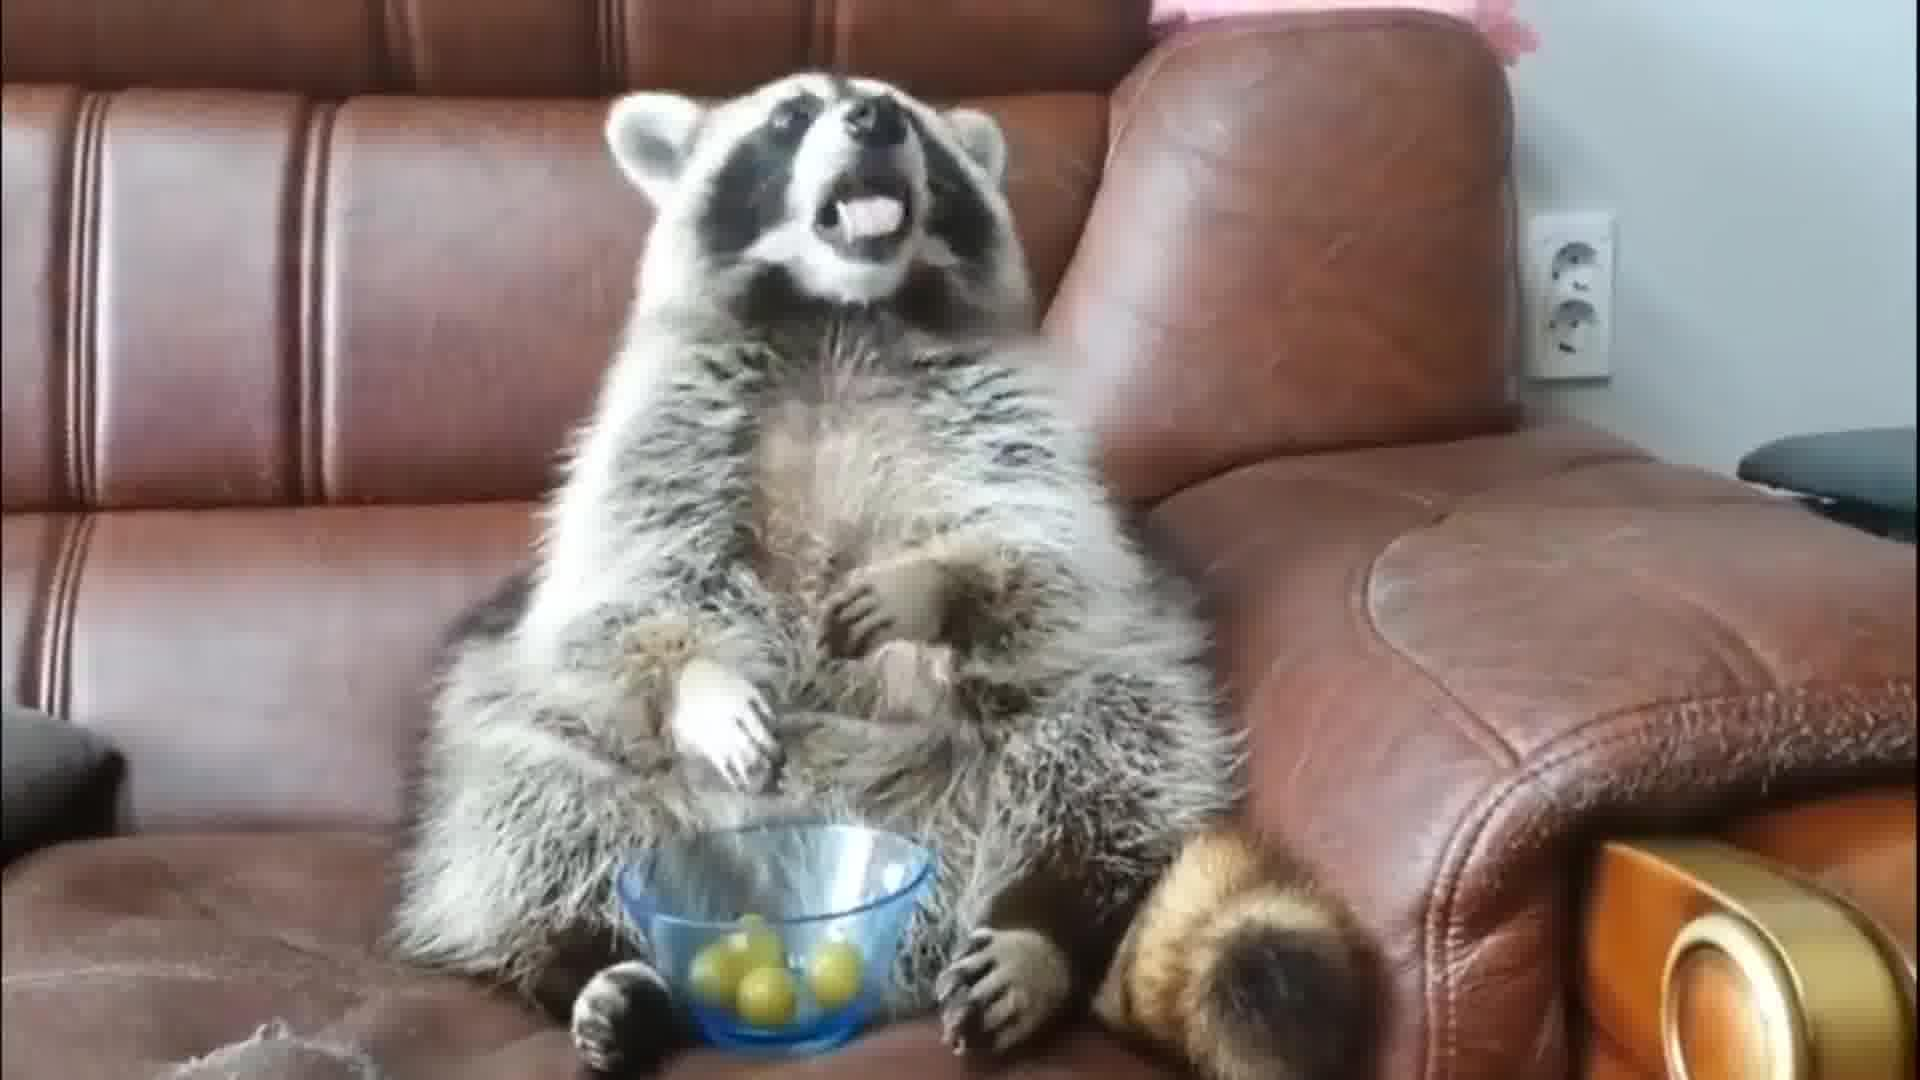raccoon: (396, 59, 1387, 1080)
